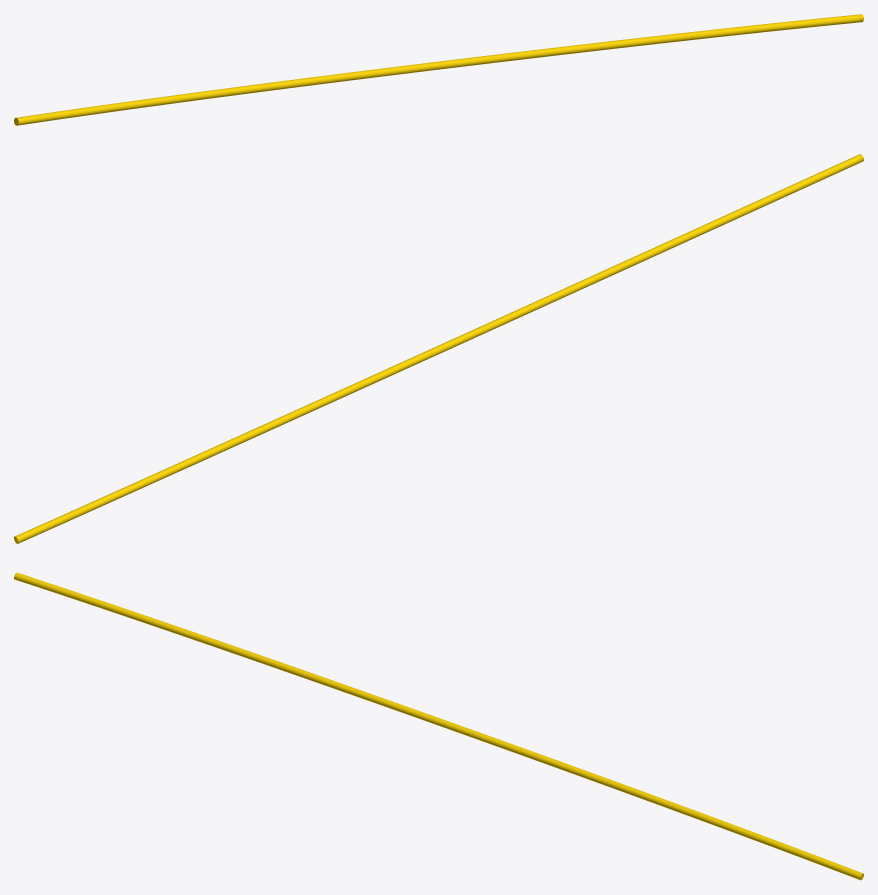
Rendered from Event_421556567_track_23.fbx.
3 views of the same model, one above another, from view 1: azimuth 30°, elevation 25°; view 2: azimuth 210°, elevation 25°; view 3: azimuth 330°, elevation 25° (orthographic). The views are drawn at different scales.
Visible parts, largest first — view 1: Model; view 2: Model; view 3: Model.
Boxes of the visible parts, <box> form: Model: <box>14,14,863,125</box>; Model: <box>14,154,863,543</box>; Model: <box>14,572,863,880</box>.
Bounding box in the file's own units: 5.07 × 0.8037 × 0.414.
